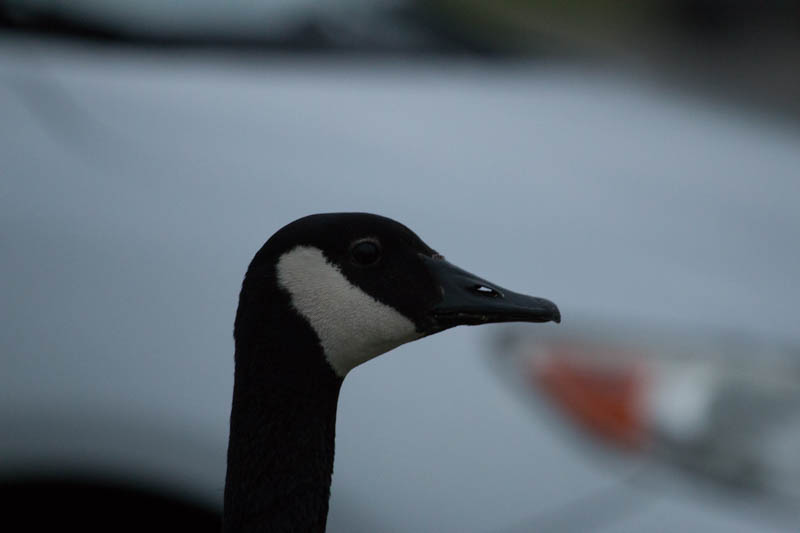goose-head: (234, 212, 563, 384)
